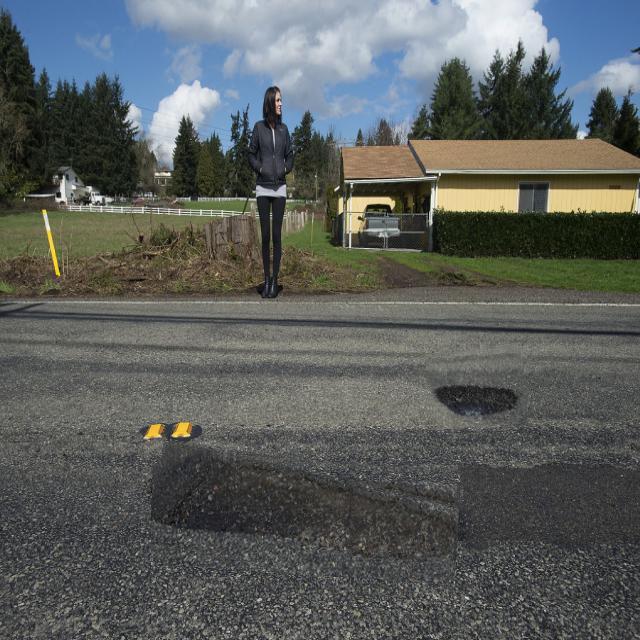Pothole: (151, 450, 461, 578), (427, 345, 527, 428)
